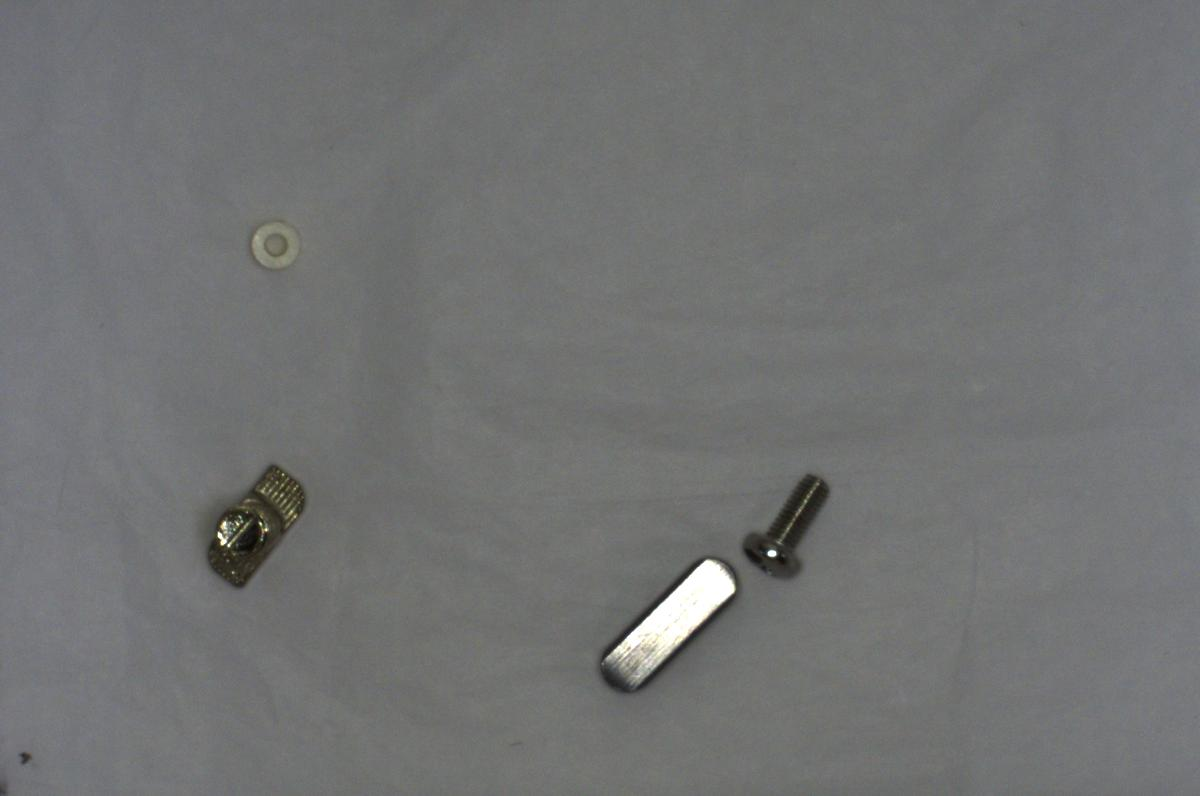Keybar: (584, 543, 740, 689)
Plastic cushion pillar: (240, 214, 306, 280)
Round head screw: (741, 466, 834, 583)
T-shaped screw: (188, 455, 308, 590)
